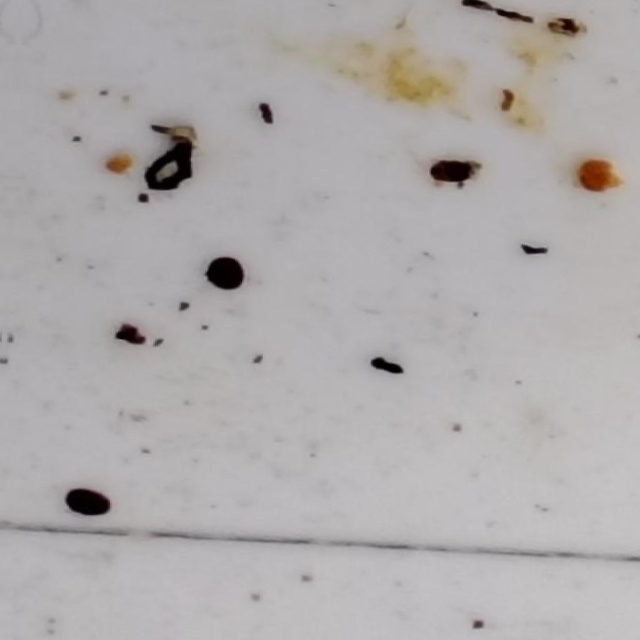varroa: (62, 487, 114, 520), (205, 256, 248, 293), (428, 157, 478, 188)
